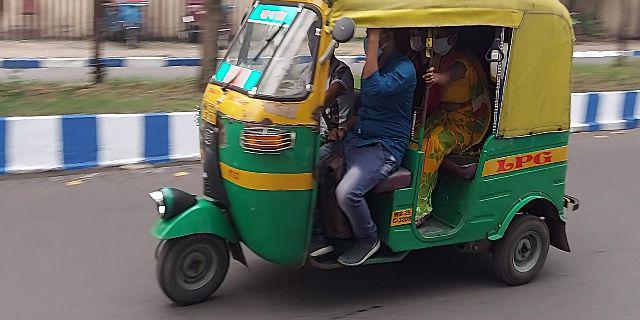Autorickshaw: (149, 1, 574, 305)
